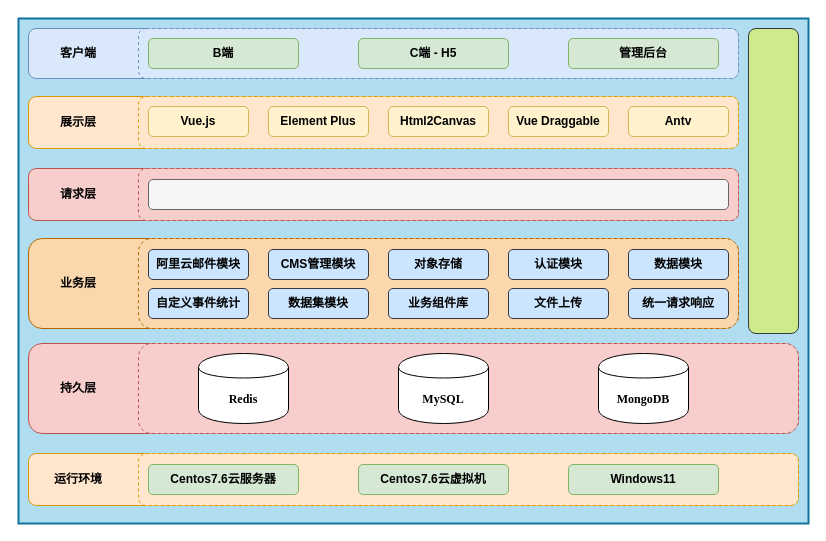
Some shapes in this 826 by 541 pixel diagram are drawn without their labels. Here are the shapes that lost their labels. From the top down, the centre of each, then its label:
the point at 438,194: HTTP / DNS
the point at 773,181: 持 续 集 成 CI / CD
